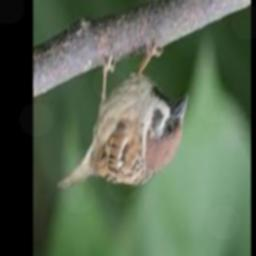Sparrow: (56, 42, 188, 190)
